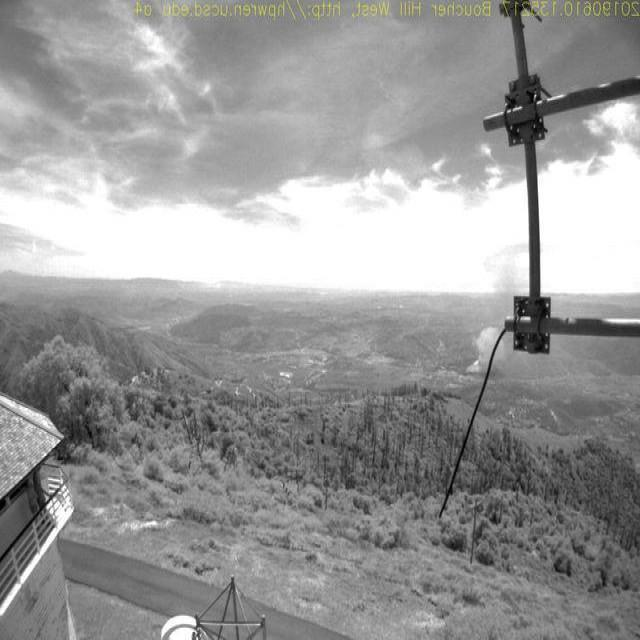Smoke: (464, 264, 506, 380)
